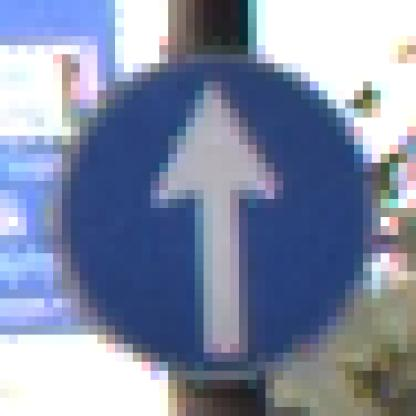AheadOnly: (54, 46, 364, 363)
